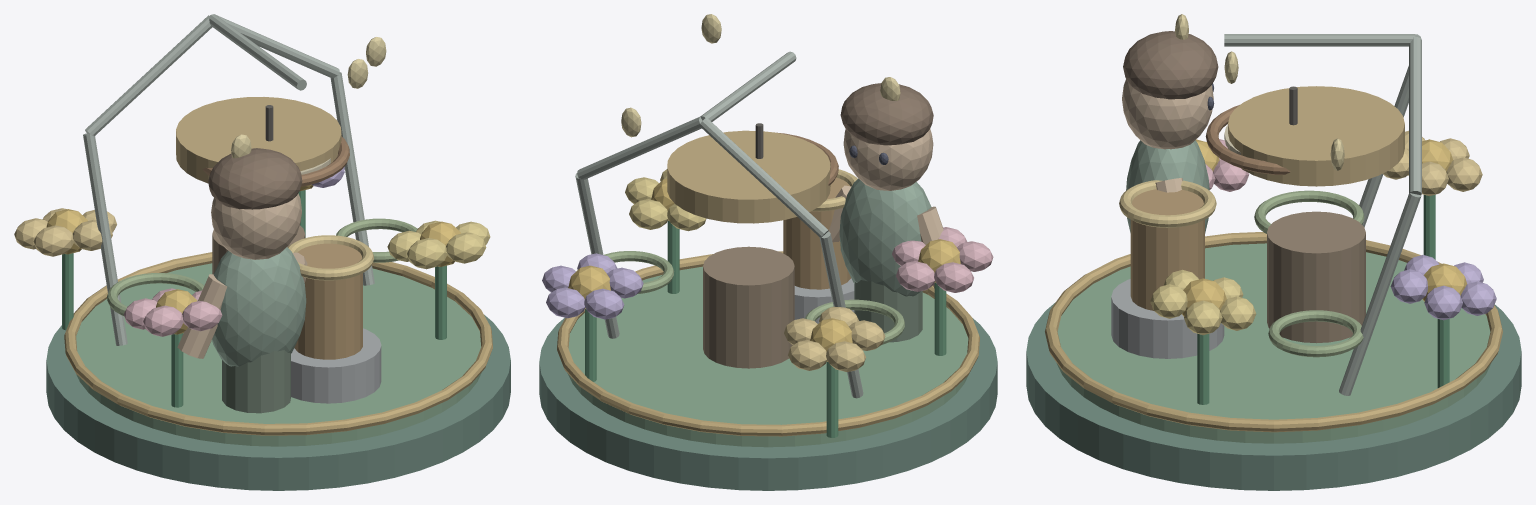
The model's file is the-clockmakers-garden.glb.
3 renders of one model, left to right at view 1: azimuth 30°, elevation 25°; view 2: azimuth 150°, elevation 25°; view 3: azimuth 270°, elevation 25°, orthographic. The views are drawn at different scales.
Parts seen in each view (by area): view 1: garden grass, garden base, brass garden rim, clock face, Ivo torso, music box, Ivo hair, fountain stone, Ivo head, Ivo legs, greenhouse side post -0.43, greenhouse side post 0.43 (+23 smaller); view 2: garden grass, garden base, clock face, clock pedestal, brass garden rim, Ivo torso, Ivo hair, Ivo head, music box, Ivo legs, greenhouse roof rib -0.43, greenhouse roof rib 0.43 (+30 smaller); view 3: garden grass, garden base, clock face, clock pedestal, brass garden rim, music box, Ivo hair, fountain stone, Ivo head, Ivo torso, greenhouse side post 0.43, greenhouse ridge (+21 smaller).
Boxes of the visible parts, x1=… form: garden grass: x1=76, y1=263, x2=481, y2=446; garden base: x1=46, y1=314, x2=510, y2=490; brass garden rim: x1=64, y1=252, x2=492, y2=435; clock face: x1=176, y1=97, x2=341, y2=183; Ivo torso: x1=212, y1=247, x2=306, y2=366; music box: x1=294, y1=243, x2=362, y2=359; Ivo hair: x1=208, y1=148, x2=302, y2=209; fountain stone: x1=291, y1=328, x2=381, y2=403; Ivo head: x1=211, y1=193, x2=301, y2=259; Ivo legs: x1=222, y1=350, x2=290, y2=413; greenhouse side post -0.43: x1=83, y1=133, x2=127, y2=345; greenhouse side post 0.43: x1=330, y1=72, x2=374, y2=285; garden grass: x1=567, y1=266, x2=968, y2=447; garden base: x1=539, y1=318, x2=997, y2=490; clock face: x1=667, y1=130, x2=830, y2=223; clock pedestal: x1=703, y1=246, x2=794, y2=368; brass garden rim: x1=557, y1=251, x2=979, y2=436; Ivo torso: x1=839, y1=178, x2=931, y2=296; Ivo hair: x1=840, y1=83, x2=933, y2=145; Ivo head: x1=843, y1=129, x2=933, y2=190; music box: x1=783, y1=177, x2=850, y2=289; Ivo legs: x1=854, y1=280, x2=922, y2=342; greenhouse roof rib -0.43: x1=700, y1=117, x2=828, y2=237; greenhouse roof rib 0.43: x1=577, y1=116, x2=702, y2=179; garden grass: x1=1056, y1=243, x2=1491, y2=443; garden base: x1=1026, y1=302, x2=1521, y2=490; clock face: x1=1228, y1=86, x2=1404, y2=186; clock pedestal: x1=1267, y1=211, x2=1365, y2=343; brass garden rim: x1=1045, y1=232, x2=1502, y2=432; music box: x1=1130, y1=189, x2=1204, y2=310; Ivo hair: x1=1123, y1=31, x2=1218, y2=99; fountain stone: x1=1111, y1=279, x2=1224, y2=358; Ivo head: x1=1122, y1=79, x2=1213, y2=149; Ivo torso: x1=1126, y1=140, x2=1209, y2=233; greenhouse side post 0.43: x1=1339, y1=193, x2=1421, y2=395; greenhouse ridge: x1=1224, y1=34, x2=1415, y2=46.
Bounding box in the file's own units: 0.728 × 0.6084 × 0.728.
